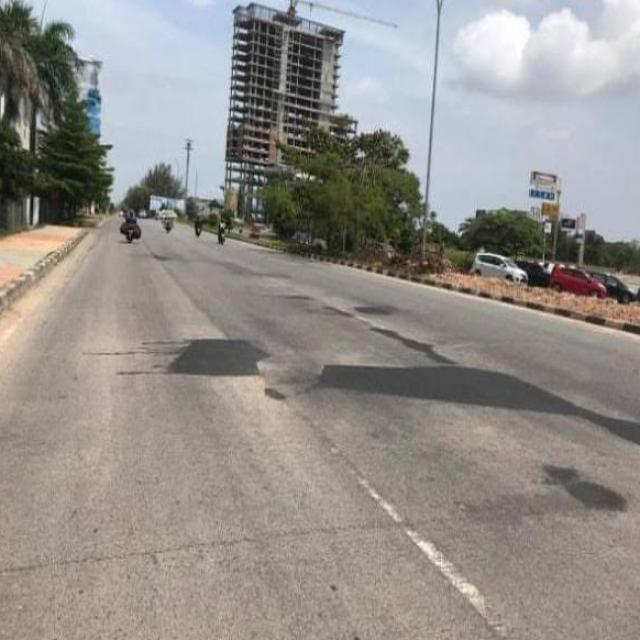Sambungan: (320, 362, 640, 448), (170, 335, 264, 374)
